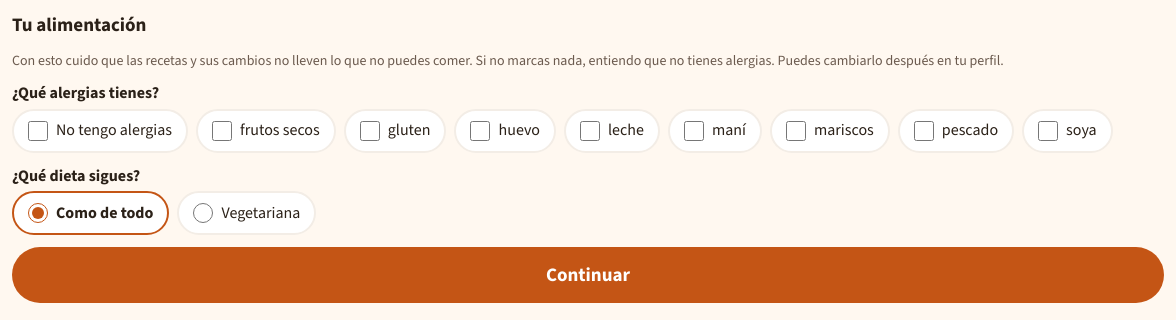
Test: DietarySetup › cambia la dieta y se guarda
Expected: the radio button labelled "Como de todo" is checked, [28,203,48,223]
Click the radio button labelled "Vegetariana": click(203, 213) [193,203,213,223]
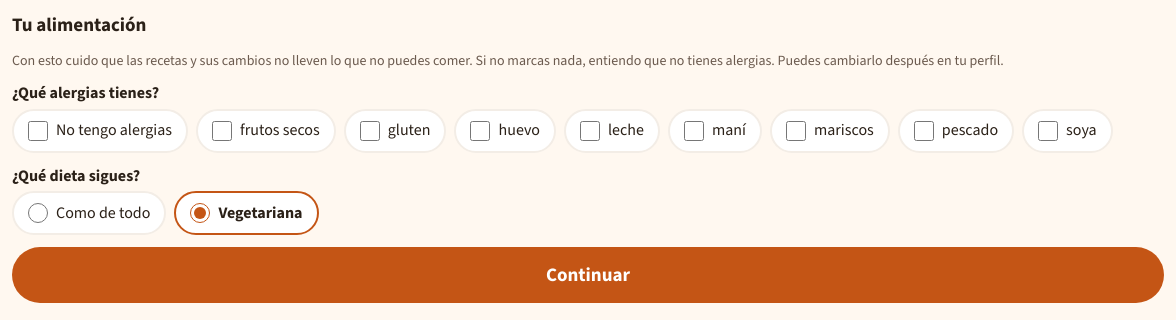
Result: the radio button labelled "Vegetariana" is checked at [190,203,210,223]
Result: the radio button labelled "Como de todo" is not checked at [28,203,48,223]
